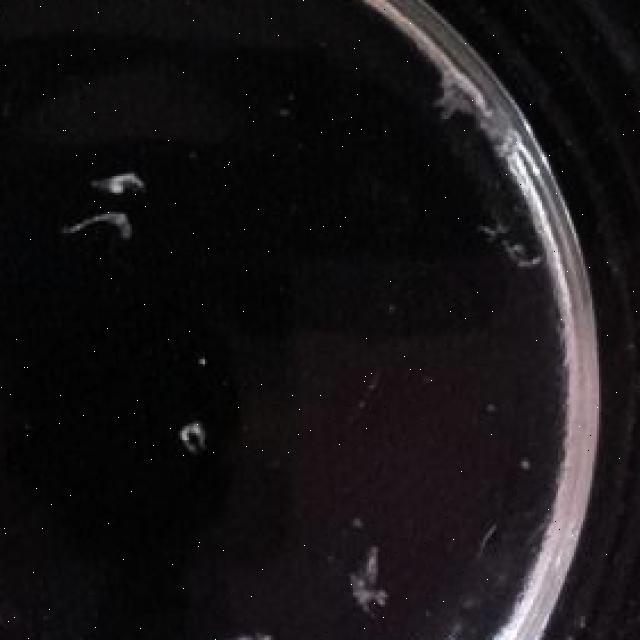Microplastic: (139, 390, 223, 471), (330, 538, 406, 606), (46, 198, 123, 264), (64, 157, 152, 207), (184, 611, 274, 640)
